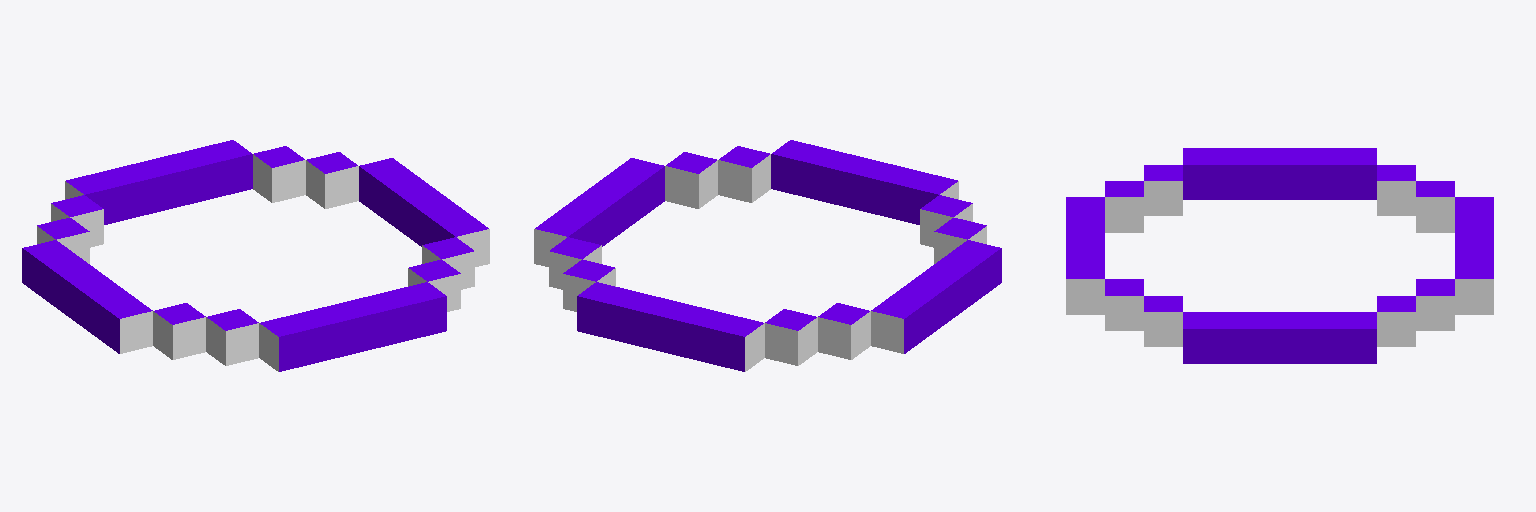
File: RingPurple.obj
3 renders of one model, left to right at view 1: azimuth 30°, elevation 25°; view 2: azimuth 150°, elevation 25°; view 3: azimuth 270°, elevation 25°, orthographic.
Parts seen in each view (by area): view 1: pCube38 RingFinalPurple; view 2: pCube38 RingFinalPurple; view 3: pCube38 RingFinalPurple.
Boxes of the visible parts, box(x1,y1,x2,y2) form: pCube38 RingFinalPurple: box(22, 140, 489, 371); pCube38 RingFinalPurple: box(534, 140, 1001, 371); pCube38 RingFinalPurple: box(1066, 148, 1493, 363).
Size of the model in its own units: 1.1 by 0.1 by 1.1.